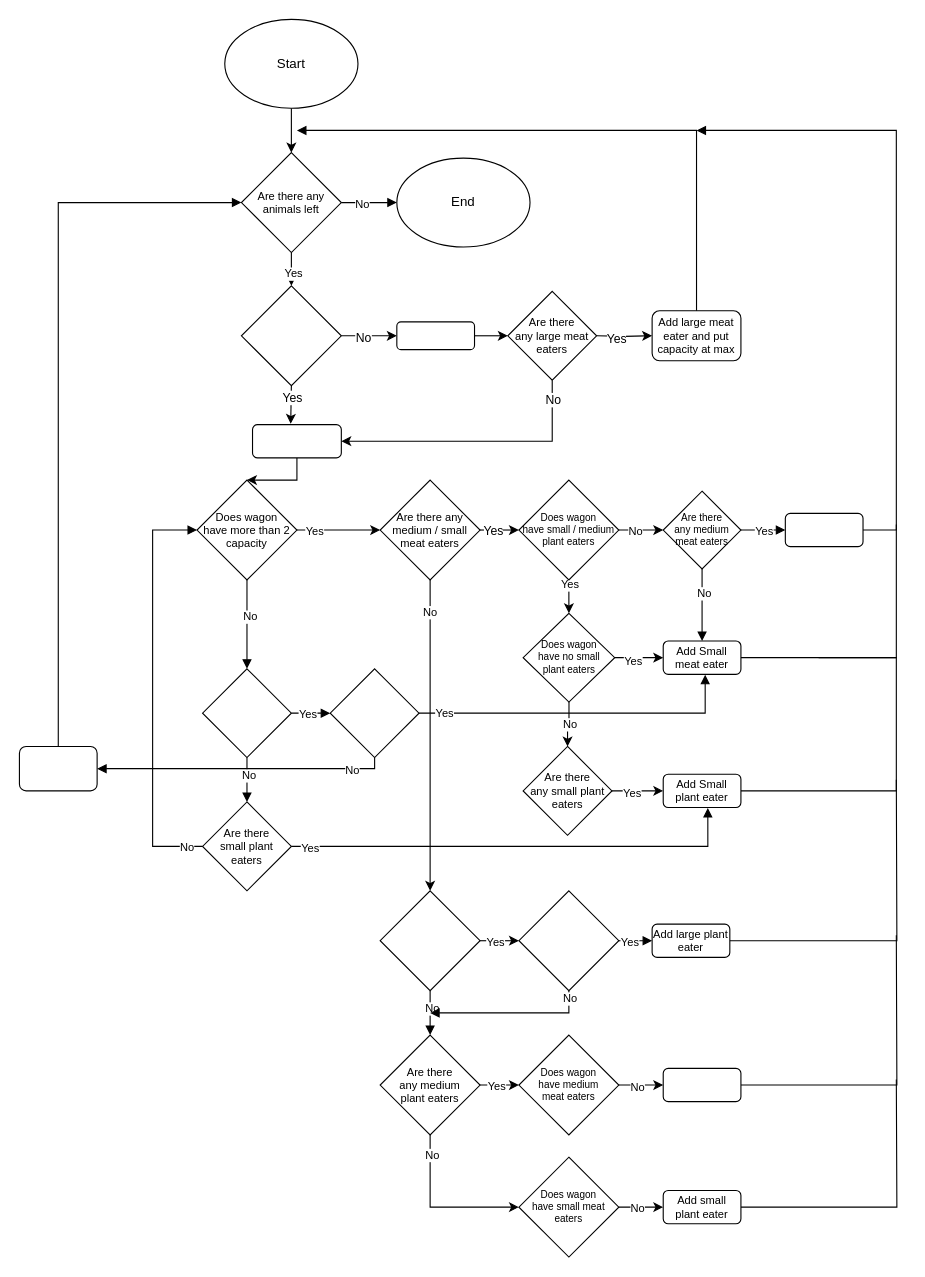
Image size: 925x1277. Some labels were removed from this diagram. The shapes that lost their labels are listed below. From the top down, each one's centre as x and y in pixels, then its label:
At [290,335]: "Is there a wagon not at max capacity".
At [435,335]: "Create wagon".
At [296,440]: "Use wagon".
At [823,529]: "Add medium meat eater".
At [246,713]: "Does wagon have any meat eaters".
At [374,713]: "Are there small meat eaters".
At [57,768]: "Put wagon at max capacity".
At [429,940]: "Does wagon have more than 4 capacity".
At [568,940]: "Are there any large plant eaters".
At [701,1084]: "Add medium plant eater".
